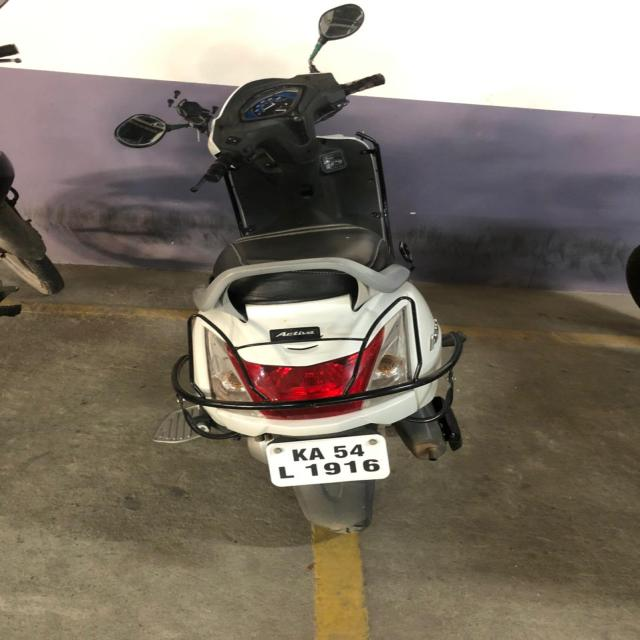license_plate: (265, 433, 390, 488)
